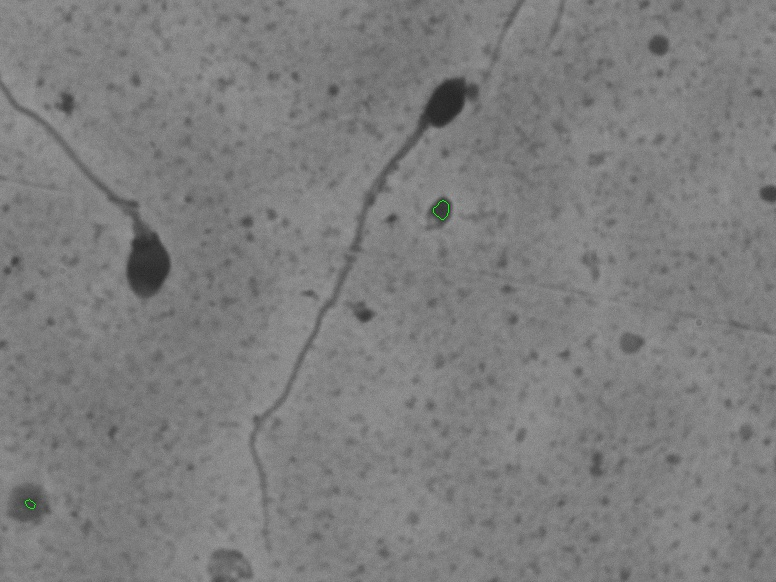Abnormal: (237, 68, 476, 558), (21, 83, 197, 337)
